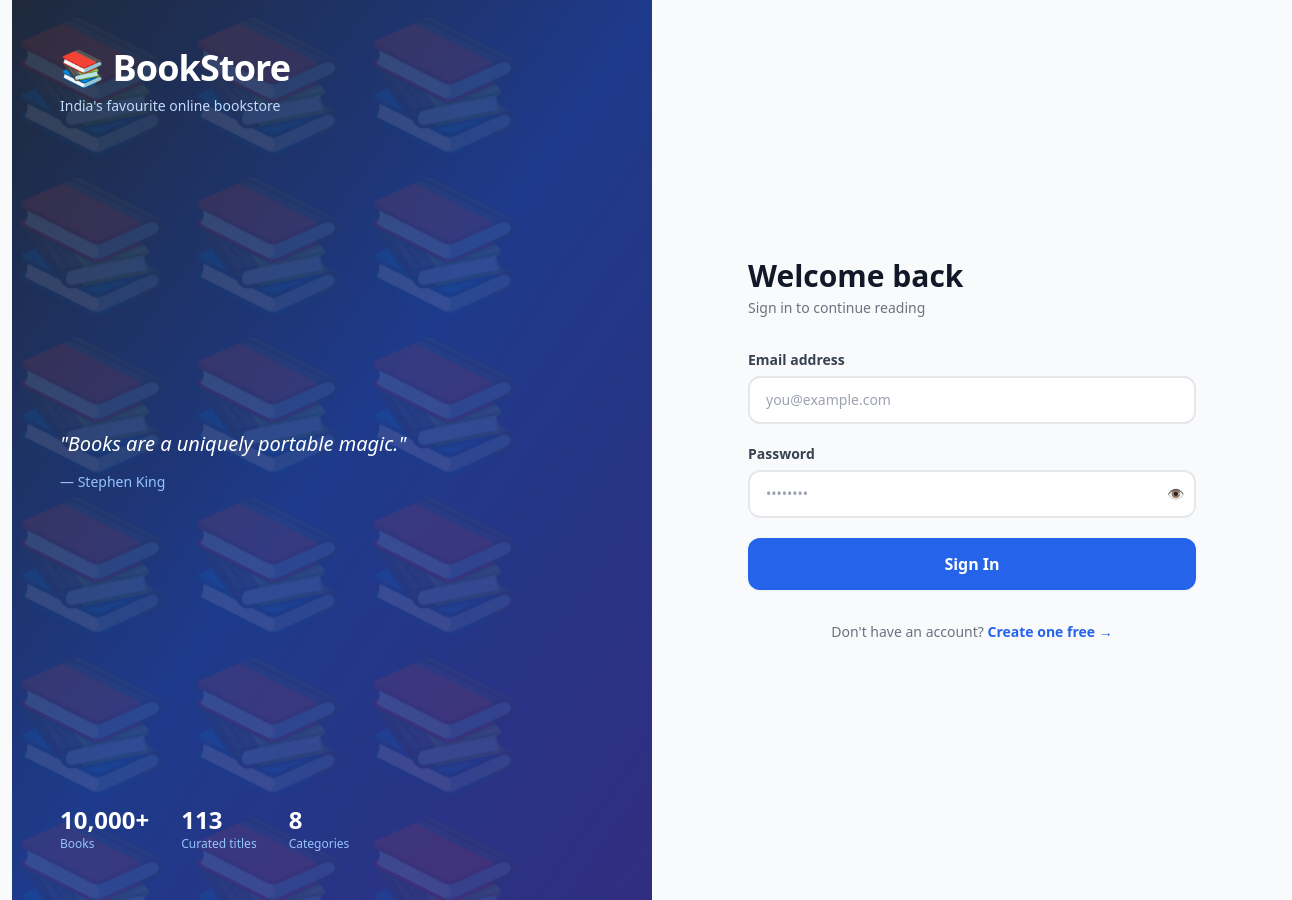
Test: LoginPage › shows credential error on 401 response
Type "a@b.com" into the field with placeholder "you@example.com" at (972, 400), box [748, 376, 1196, 424]
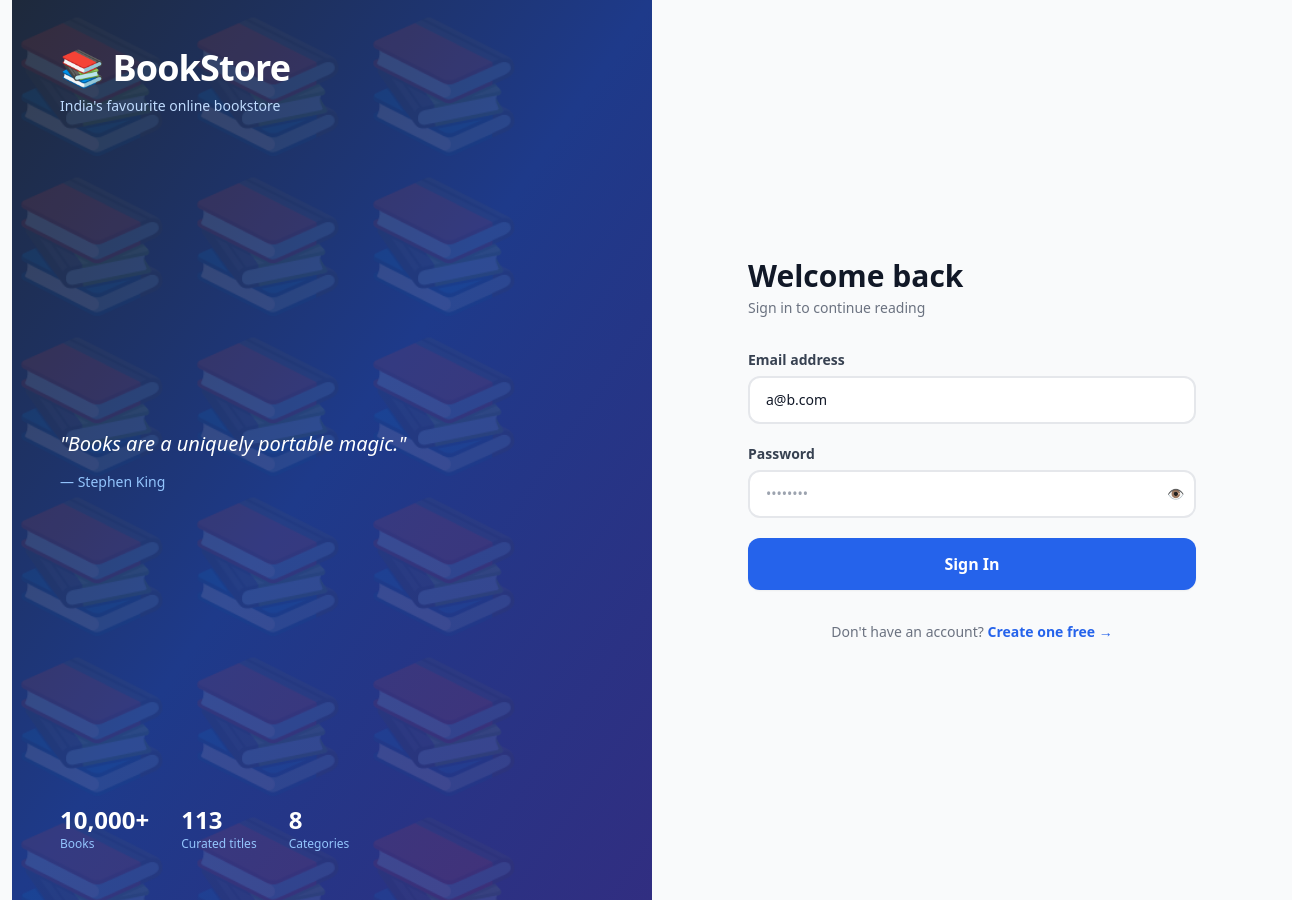
Type "wrong" into the password field with placeholder "••••••••" at (972, 494), box [748, 470, 1196, 518]
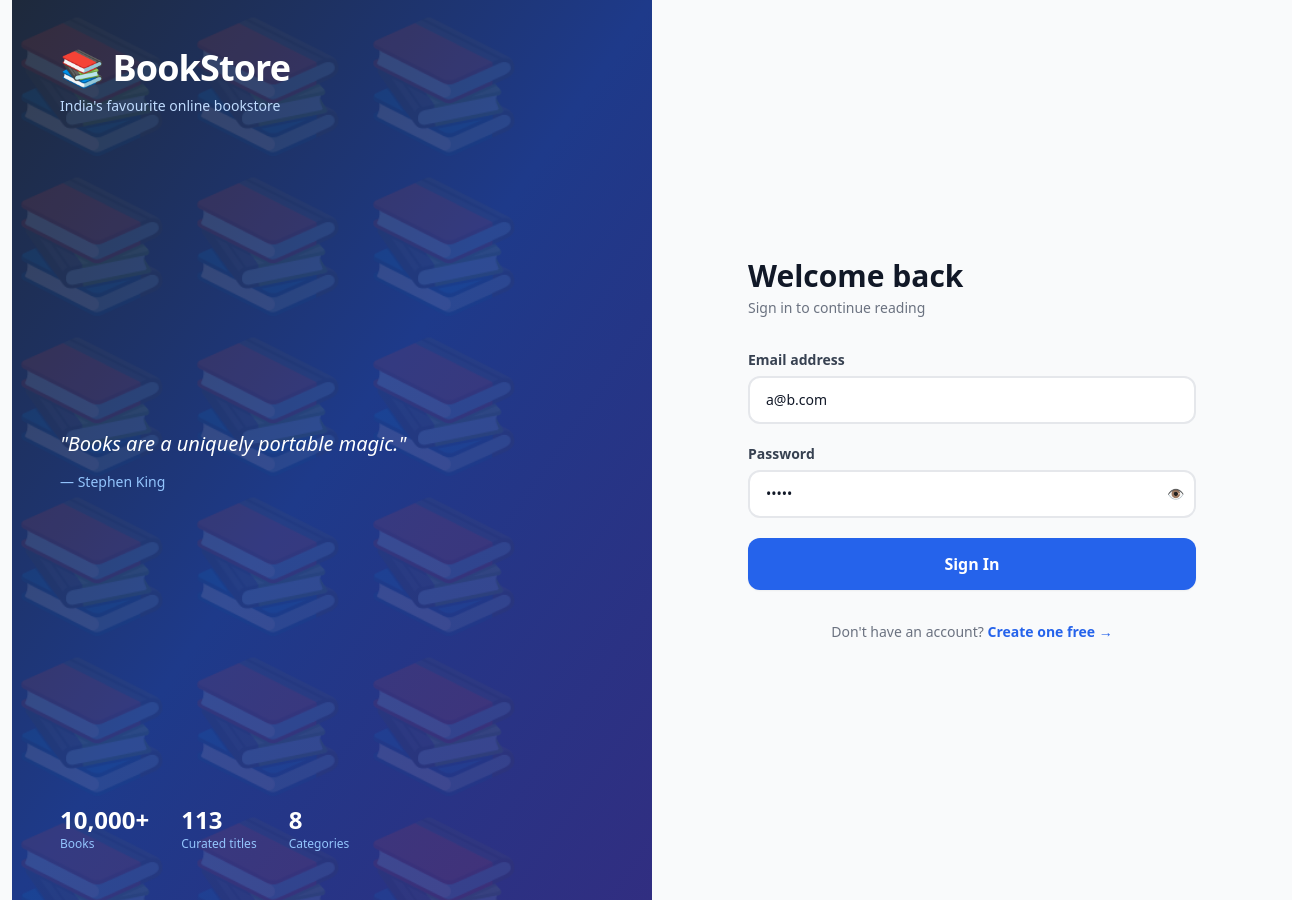
Click the button "Sign In" at (972, 564), box [748, 538, 1196, 590]
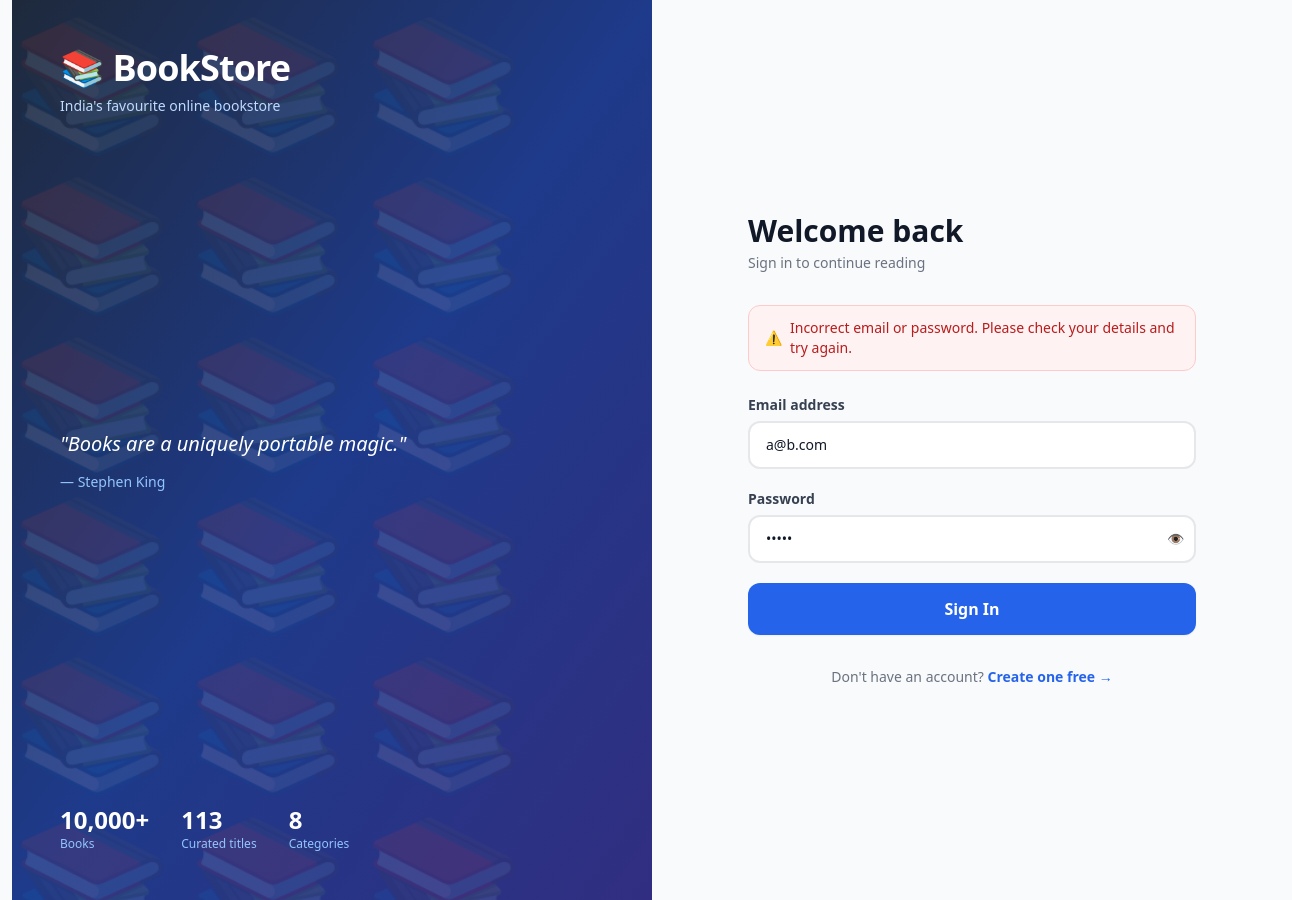
expect the text "Incorrect email or password" is shown: met, box [790, 318, 1175, 357]
